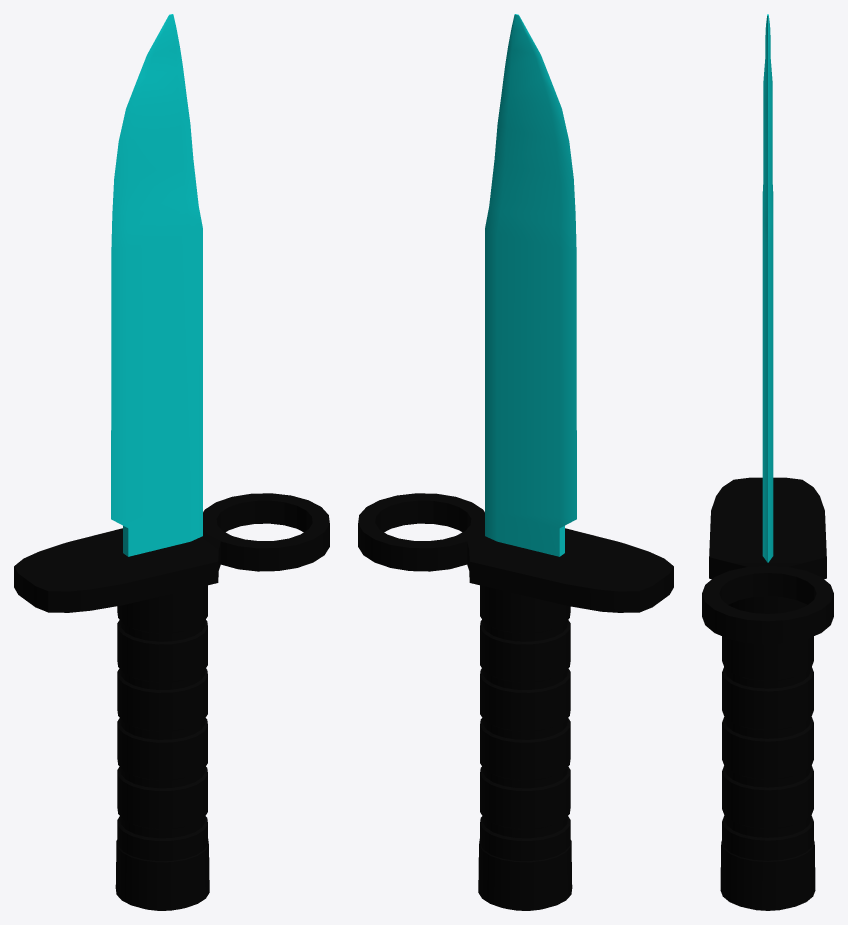
Rendered from Knife.fbx.
The picture shows the model from 3 angles, left to right: view 1: azimuth 30°, elevation 25°; view 2: azimuth 150°, elevation 25°; view 3: azimuth 270°, elevation 25°; orthographic projection.
Visible parts, largest first — view 1: pPlane1, pCylinder1, pCylinder3; view 2: pPlane1, pCylinder1, pCylinder3; view 3: pCylinder1, pCylinder3, pPlane1.
Part boxes in pixels (box(x1,y1,x2,y2)): pPlane1: box(111, 14, 202, 556); pCylinder1: box(115, 585, 209, 910); pCylinder3: box(14, 493, 329, 612); pPlane1: box(485, 14, 576, 556); pCylinder1: box(478, 585, 572, 910); pCylinder3: box(358, 493, 673, 612); pCylinder1: box(720, 596, 815, 910); pCylinder3: box(702, 477, 833, 644); pPlane1: box(762, 14, 773, 562).
Size of the model in its own units: 3.44 by 9.8 by 1.32.
